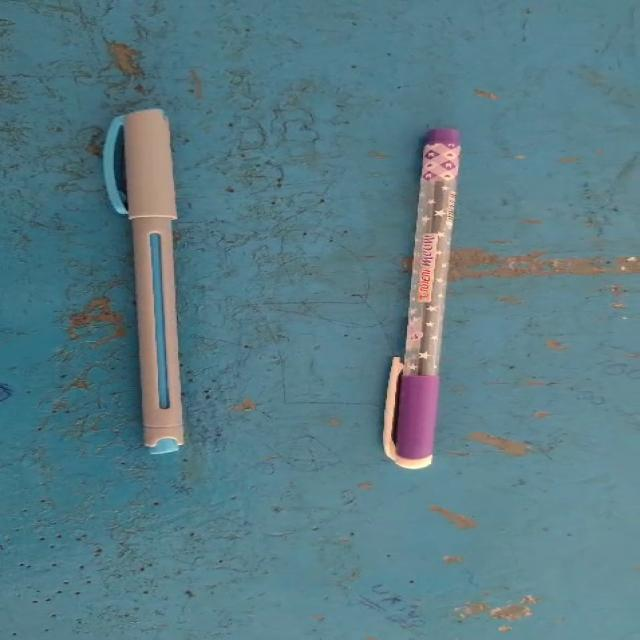pen: (72, 76, 244, 486), (345, 81, 515, 494)
